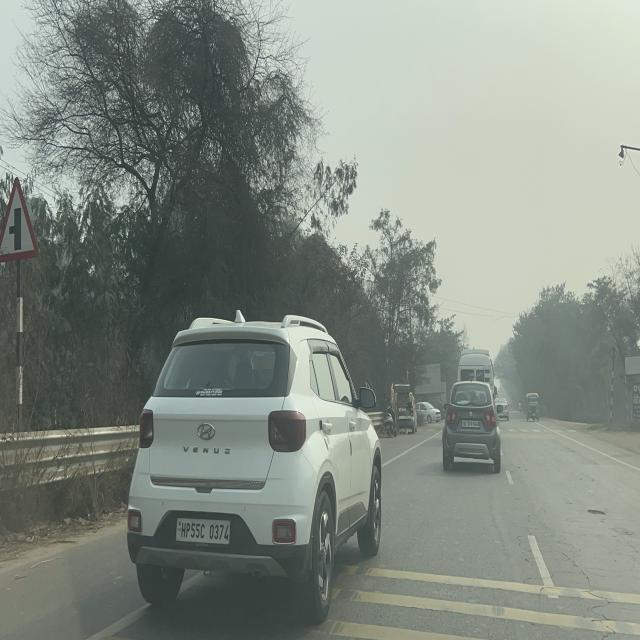SIDE_ROAD_LEFT: (0, 170, 39, 262)
